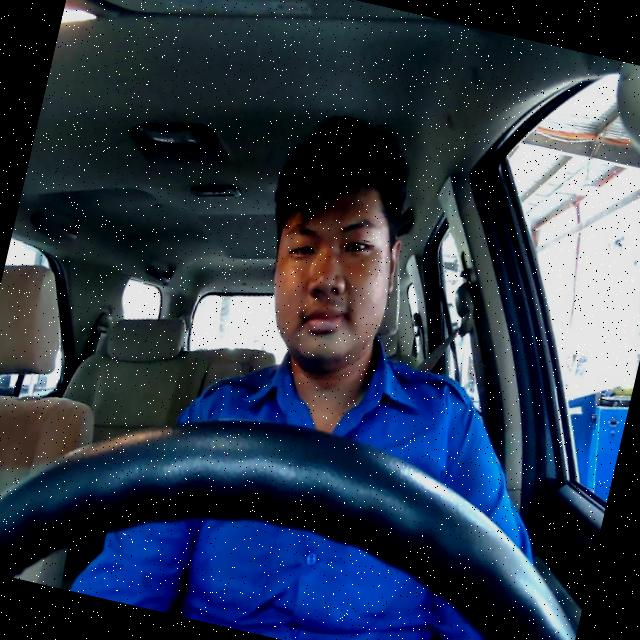focused: (254, 167, 414, 376)
